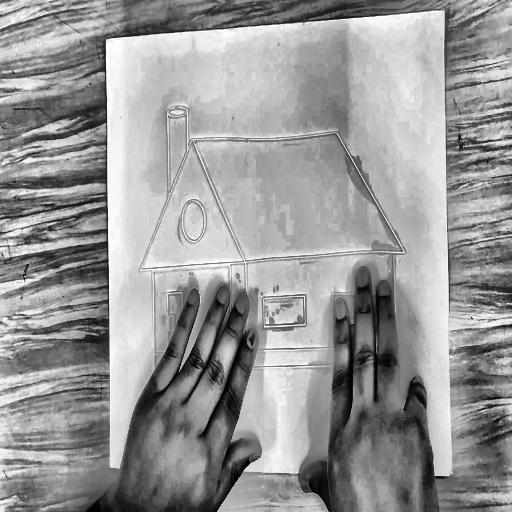bottom_left: (108, 463, 113, 472)
bottom_right: (448, 467, 454, 478)
house: (132, 74, 413, 399)
top_left: (104, 37, 109, 46)
top_right: (442, 5, 448, 16)
